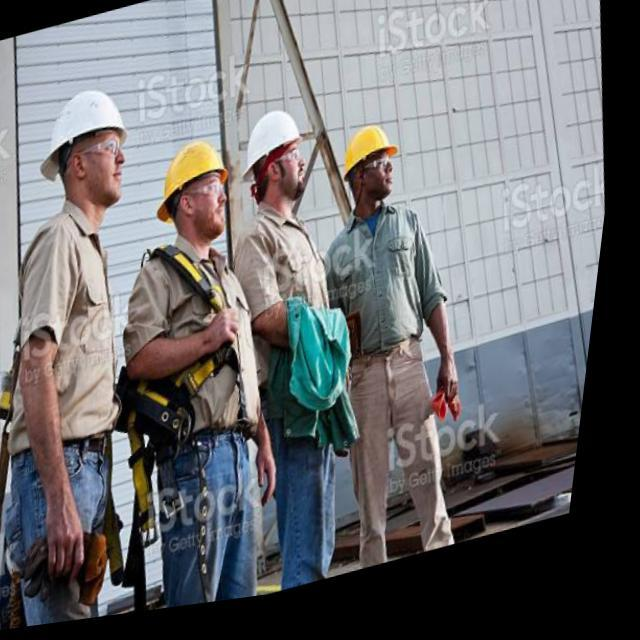belt: (98, 227, 282, 558)
